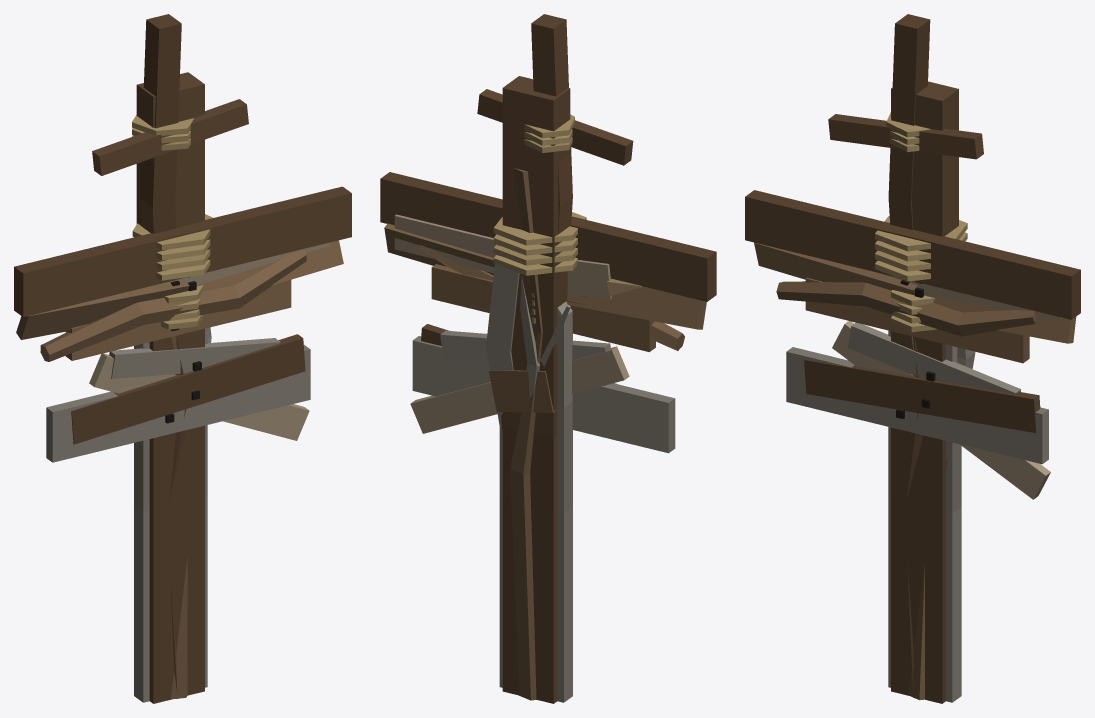
Rendered from grave_cross.glb.
The picture shows the model from 3 angles, left to right: view 1: azimuth 30°, elevation 25°; view 2: azimuth 150°, elevation 25°; view 3: azimuth 330°, elevation 25°; orthographic projection.
Visible parts, largest first — view 1: Cross1, Cross5, Cross6, Cross9, Cross8, Cross3, Cross2, Cross0, Cross7, Cross4, Stick1; view 2: Cross1, Cross5, Cross8, Cross6, Cross3, Cross2, Cross0, Cross7, Cross4, Cross9, Stick0; view 3: Cross1, Cross5, Cross6, Cross9, Cross8, Cross3, Cross2, Cross0, Cross7, Cross4, Stick1.
Part boxes in pixels (bbox=[...]): Cross1: bbox=[14, 72, 351, 703]; Cross5: bbox=[46, 328, 310, 702]; Cross6: bbox=[92, 14, 248, 233]; Cross9: bbox=[71, 334, 305, 444]; Cross8: bbox=[40, 249, 306, 699]; Cross3: bbox=[16, 240, 343, 339]; Cross2: bbox=[109, 327, 280, 378]; Cross0: bbox=[65, 280, 291, 360]; Cross7: bbox=[89, 353, 309, 440]; Cross4: bbox=[114, 242, 330, 295]; Stick1: bbox=[169, 337, 186, 698]; Cross1: bbox=[380, 76, 716, 703]; Cross5: bbox=[412, 301, 675, 702]; Cross8: bbox=[419, 168, 684, 700]; Cross6: bbox=[477, 14, 633, 234]; Cross3: bbox=[384, 223, 706, 329]; Cross2: bbox=[440, 244, 610, 442]; Cross0: bbox=[431, 264, 655, 352]; Cross7: bbox=[410, 346, 629, 433]; Cross4: bbox=[394, 214, 641, 299]; Cross9: bbox=[421, 324, 616, 431]; Stick0: bbox=[520, 275, 570, 398]; Cross1: bbox=[745, 81, 1080, 703]; Cross5: bbox=[786, 330, 1048, 702]; Cross6: bbox=[828, 14, 983, 229]; Cross9: bbox=[804, 359, 1040, 471]; Cross8: bbox=[776, 281, 1035, 700]; Cross3: bbox=[754, 242, 1076, 343]; Cross2: bbox=[848, 322, 1020, 394]; Cross0: bbox=[805, 277, 1029, 363]; Cross7: bbox=[832, 321, 1050, 499]; Cross4: bbox=[844, 264, 1061, 320]; Stick1: bbox=[906, 339, 923, 697].
Size of the model in its own units: 1.02 by 2 by 0.2328.
